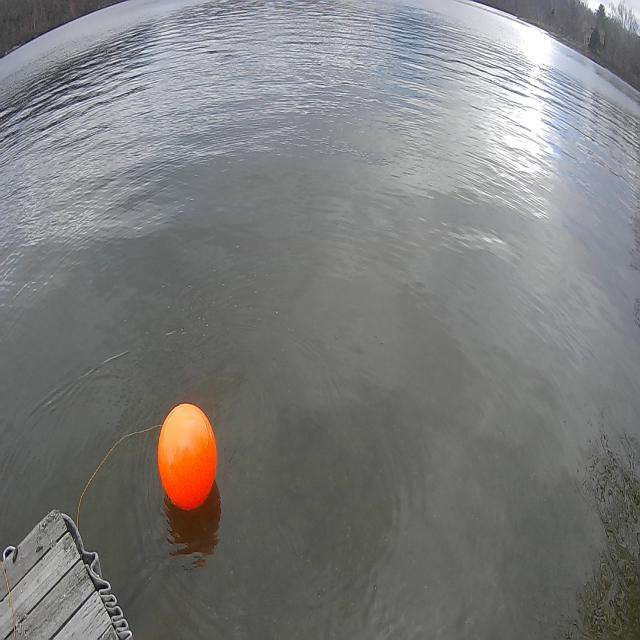Buoy: (154, 396, 220, 514)
